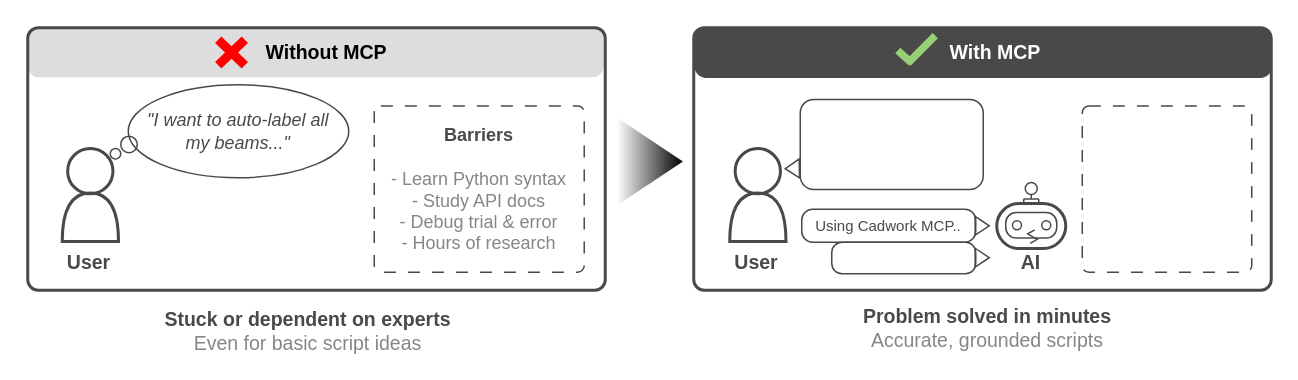
The diagram is 1298 pixels wide and 380 high, and some of its shapes have lost their labels. Each missing label, with the centre of its shape:
"Script to label all beams with their cross-section": (x=891, y=143)
AI + MCP + Correct API calls + Valid parameters + Working code: (x=1166, y=188)
Here's the script..: (x=903, y=257)
